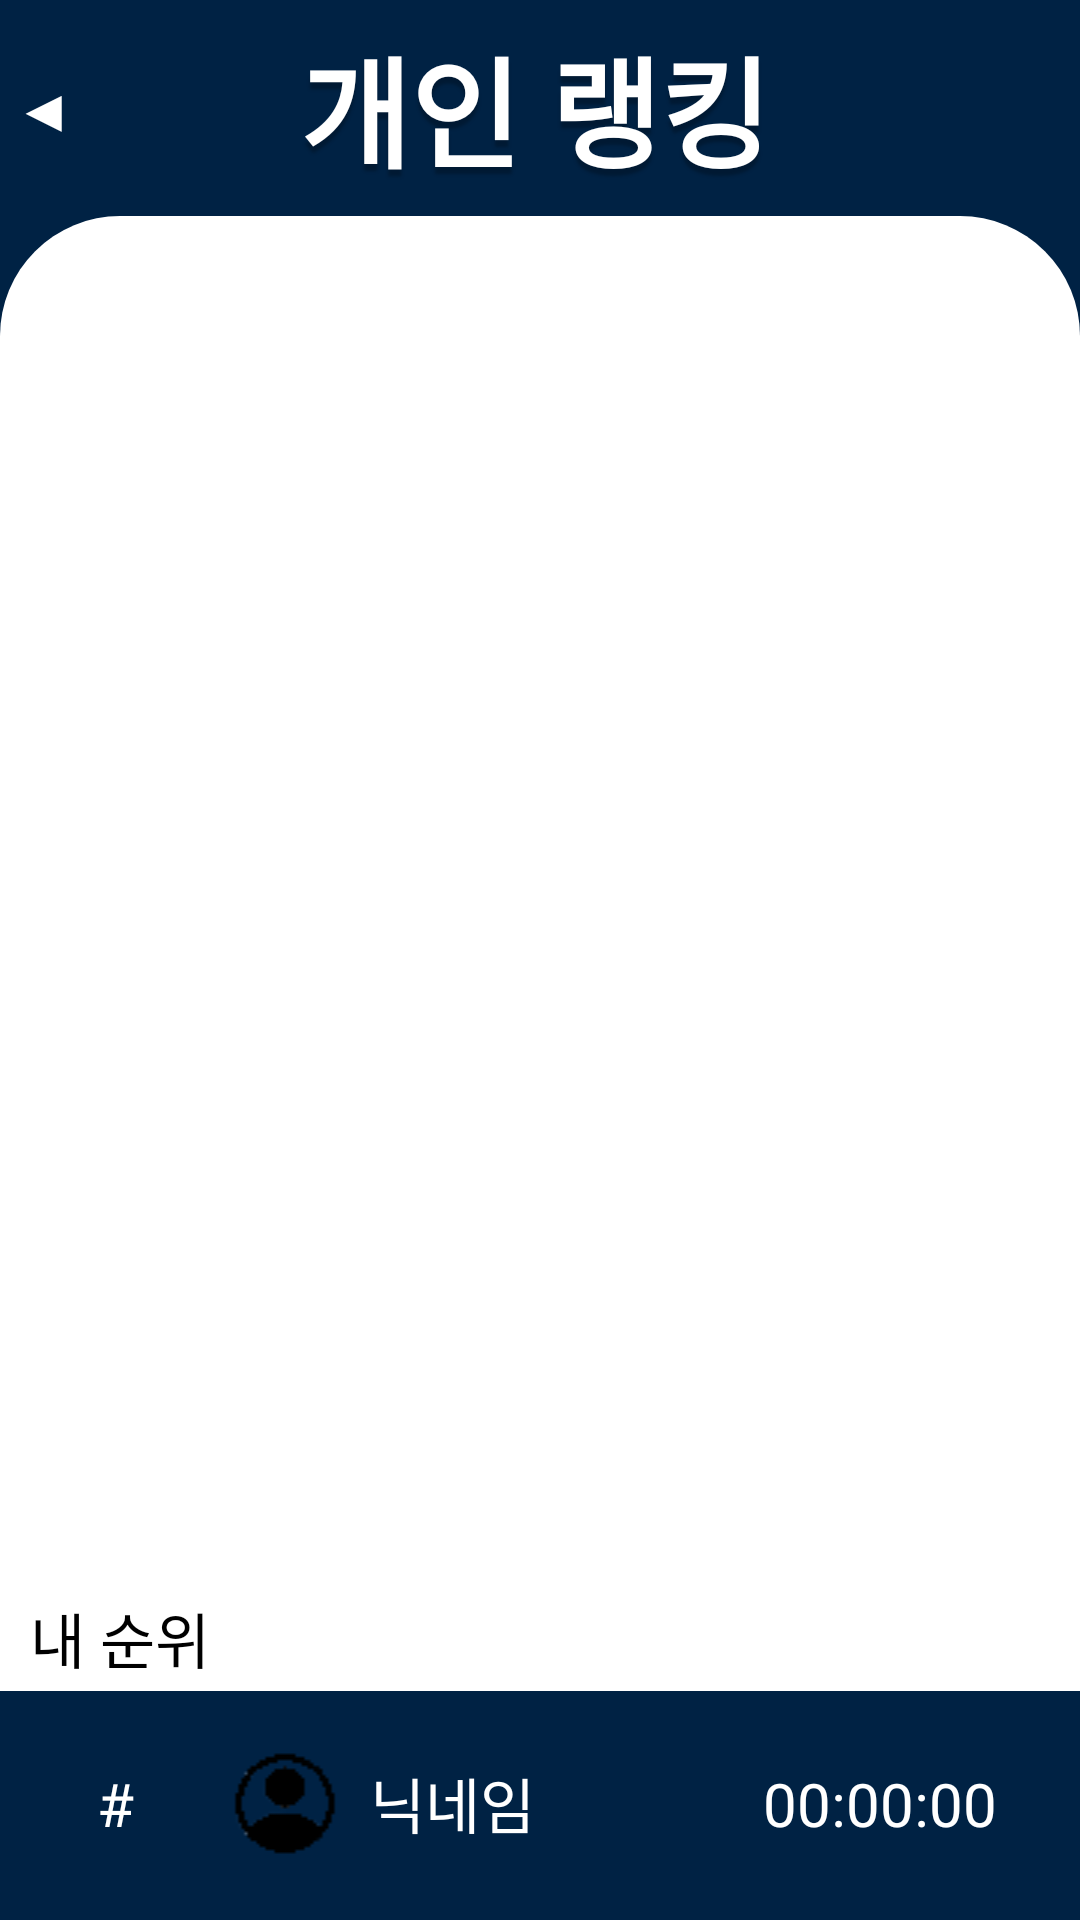

Locate icon controls on the screen. Image size 1080*1920, boxes as (x1, y1, x2, y2).
프로필 이미지: (235, 1754, 335, 1853)
